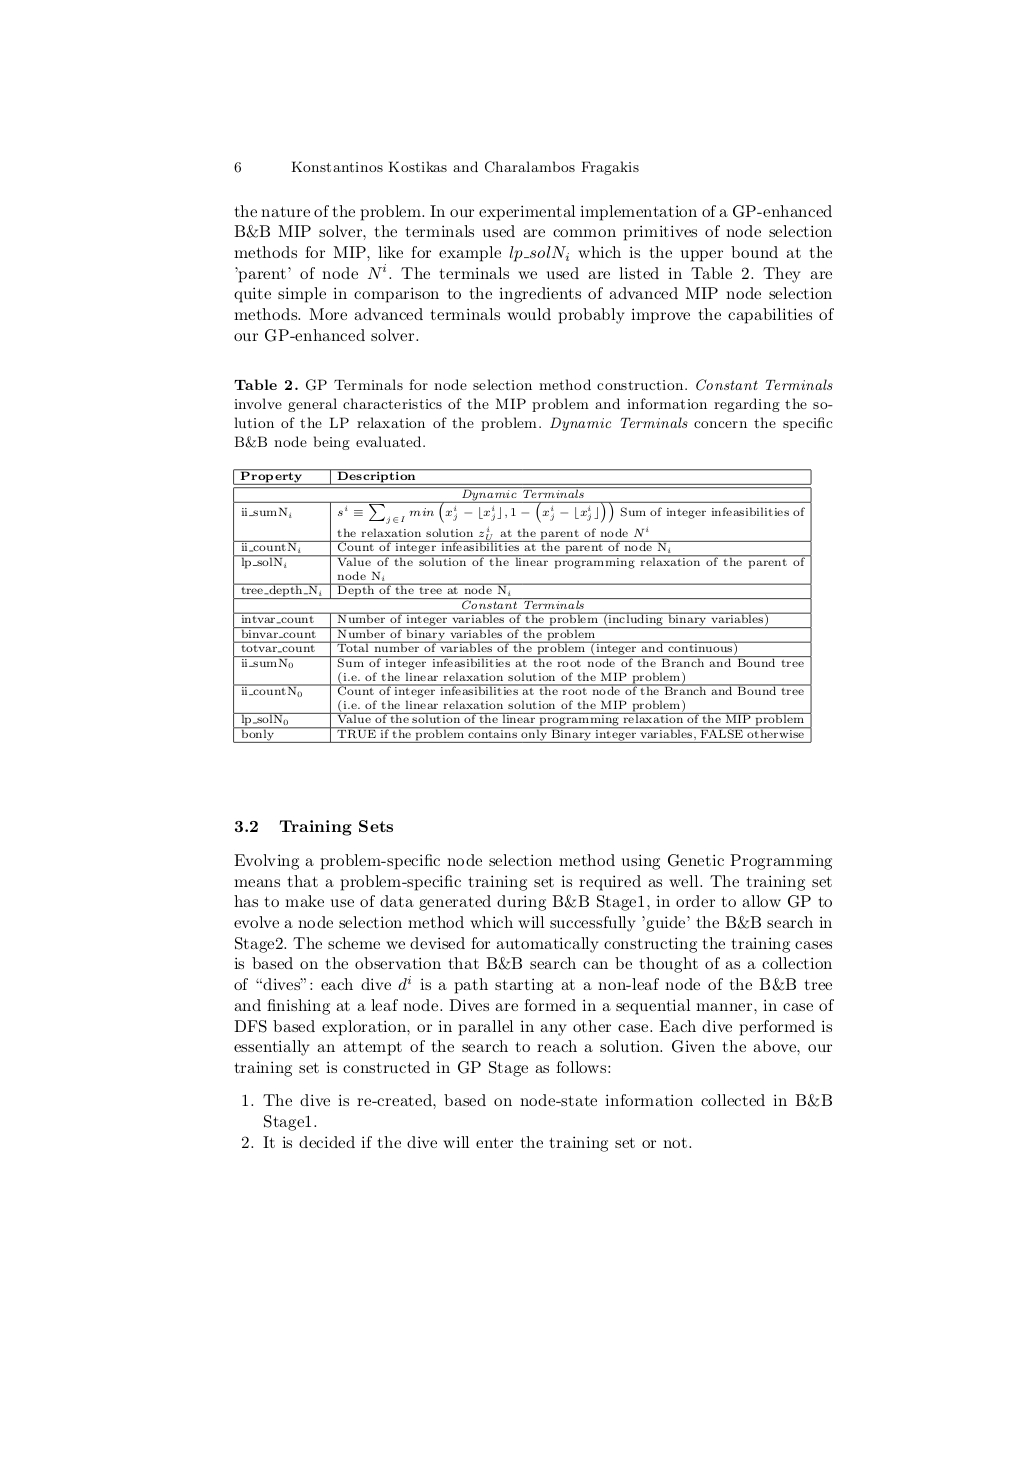Table: (233, 468, 811, 743)
